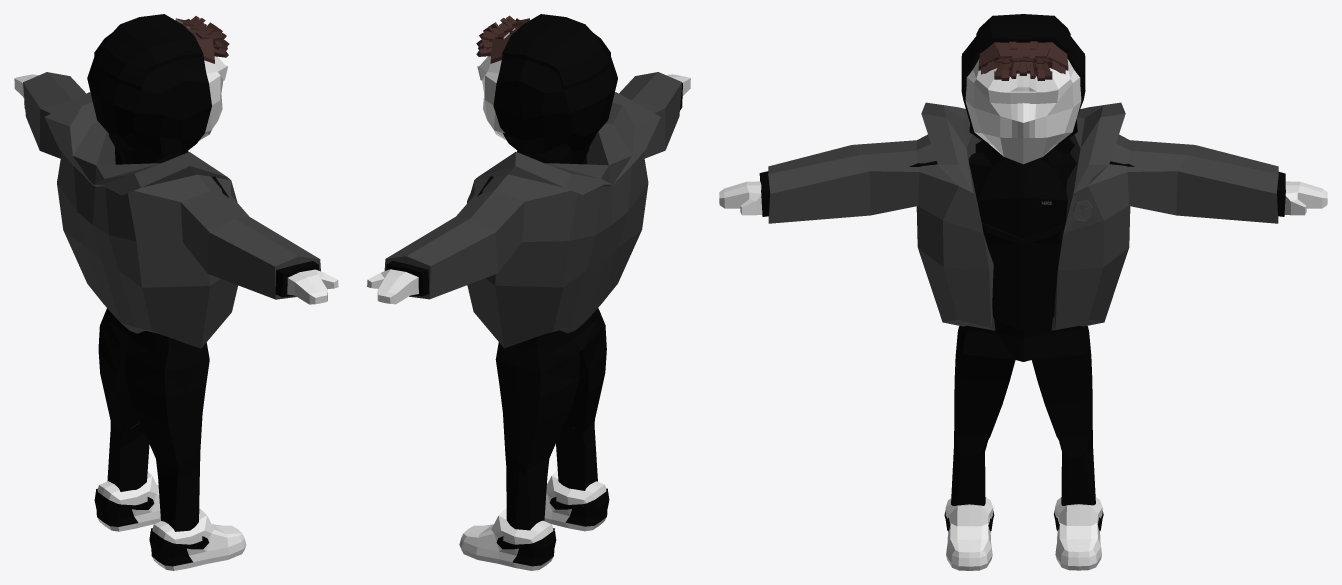
Rendered from character.gltf.
3 views of the same model, side by side, from view 1: azimuth 30°, elevation 25°; view 2: azimuth 150°, elevation 25°; view 3: azimuth 270°, elevation 25° (orthographic).
Parts seen in each view (by area): view 1: pants002, pants001, Hoodie001, Jordans013, Cube004, Jordans010, Cube005, Jordans012, Jordans015; view 2: pants002, pants001, Hoodie001, Jordans010, Cube004, Jordans013, Cube005, Jordans012, Jordans015; view 3: pants002, Hoodie001, pants001, Cube004, Jordans010, Jordans013, Cube005.
Boxes of the visible parts, box(x1,y1,x2,y2) form: pants002: box(23, 72, 320, 348); pants001: box(98, 308, 209, 531); Hoodie001: box(24, 14, 318, 297); Jordans013: box(152, 509, 246, 570); Cube004: box(14, 18, 338, 304); Jordans010: box(97, 472, 160, 531); Cube005: box(176, 16, 229, 63); Jordans012: box(94, 494, 138, 526); Jordans015: box(149, 533, 192, 566); pants002: box(384, 72, 682, 348); pants001: box(495, 308, 606, 530); Hoodie001: box(386, 14, 682, 296); Jordans010: box(459, 509, 553, 570); Cube004: box(367, 28, 690, 304); Jordans013: box(544, 470, 606, 531); Cube005: box(476, 15, 529, 63); Jordans012: box(512, 533, 556, 566); Jordans015: box(565, 493, 609, 526); pants002: box(768, 102, 1278, 330); Hoodie001: box(759, 14, 1285, 331); pants001: box(951, 318, 1095, 505); Cube004: box(719, 59, 1327, 215); Jordans010: box(1055, 497, 1102, 570); Jordans013: box(945, 497, 993, 570); Cube005: box(978, 41, 1068, 80).
Size of the model in its own units: 2.46 by 8.82 by 9.39.
